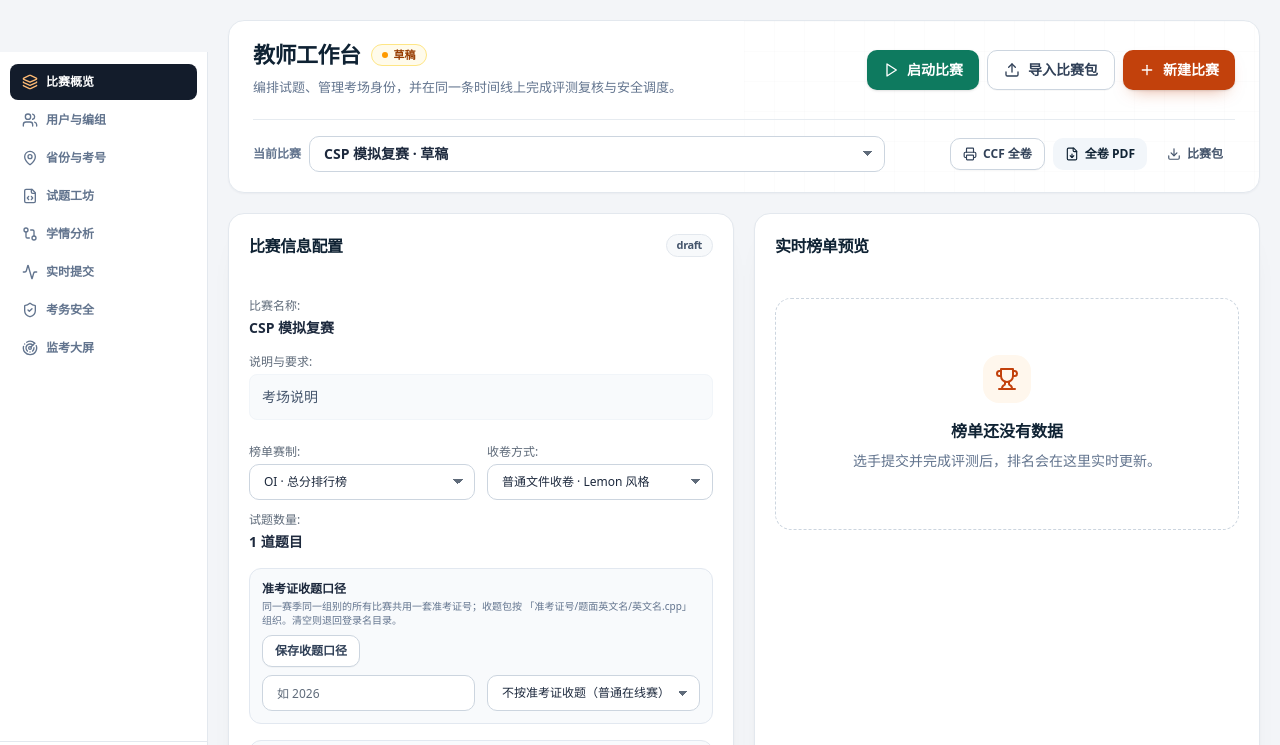
TeacherConsole test data workflow › saves a single inline answer key for answer-only tasks
Click the tab "试题工坊" at (104, 196), box [10, 178, 197, 214]
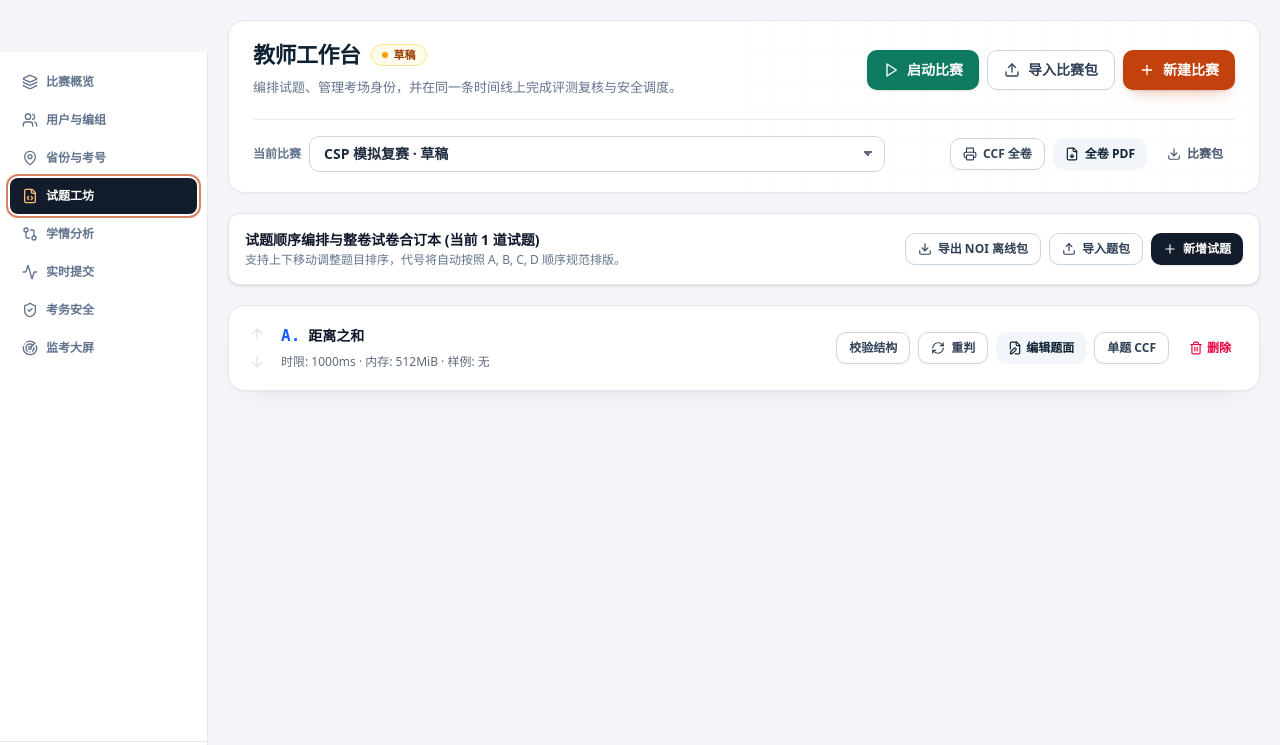
Click the button "编辑题面" at (1041, 348), box [996, 332, 1086, 364]
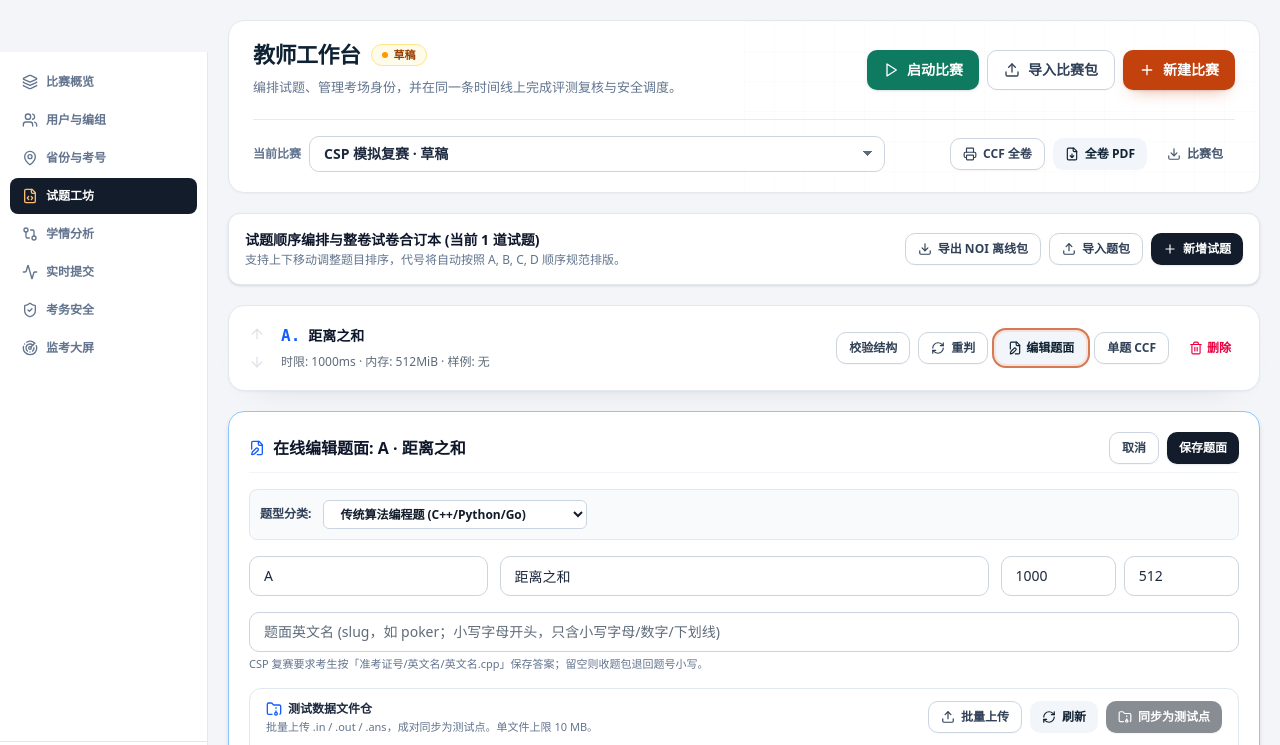
expect the text "测试数据文件仓" is shown: met, box [266, 700, 372, 717]
Select "只交答案题 (文件 / 问答评测)" in the dropdown named "题型分类" at (455, 514), box [323, 500, 587, 528]
(page scrolled)
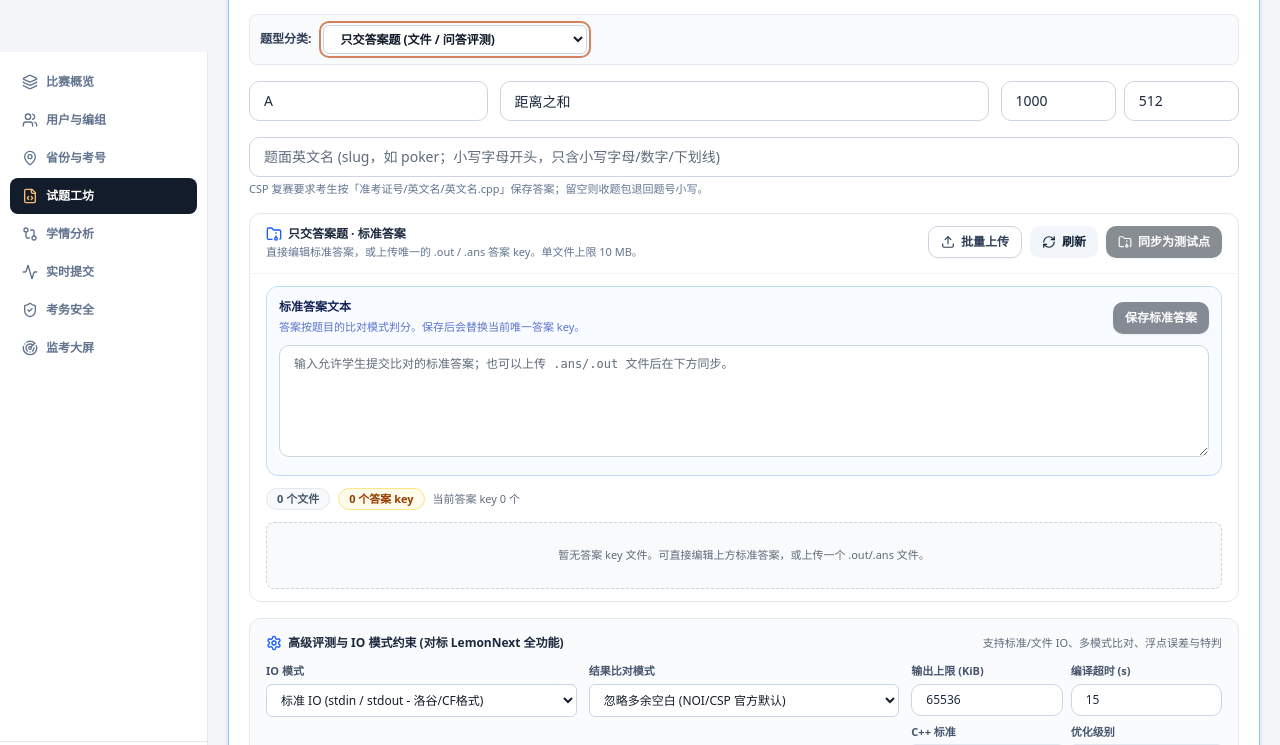
Type "42" into the text box named "只交答案题标准答案" at (744, 400), box [279, 344, 1209, 456]
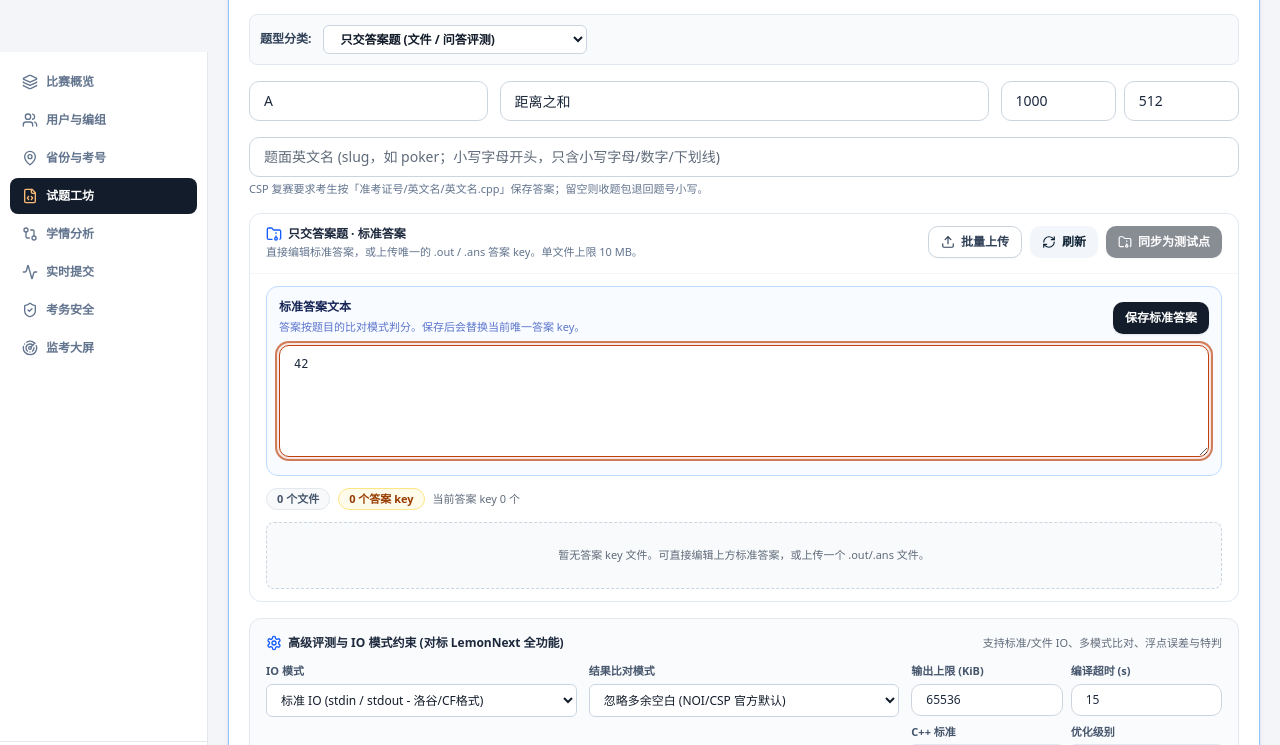
Click the button "保存标准答案" at (1161, 318), box [1113, 302, 1209, 334]
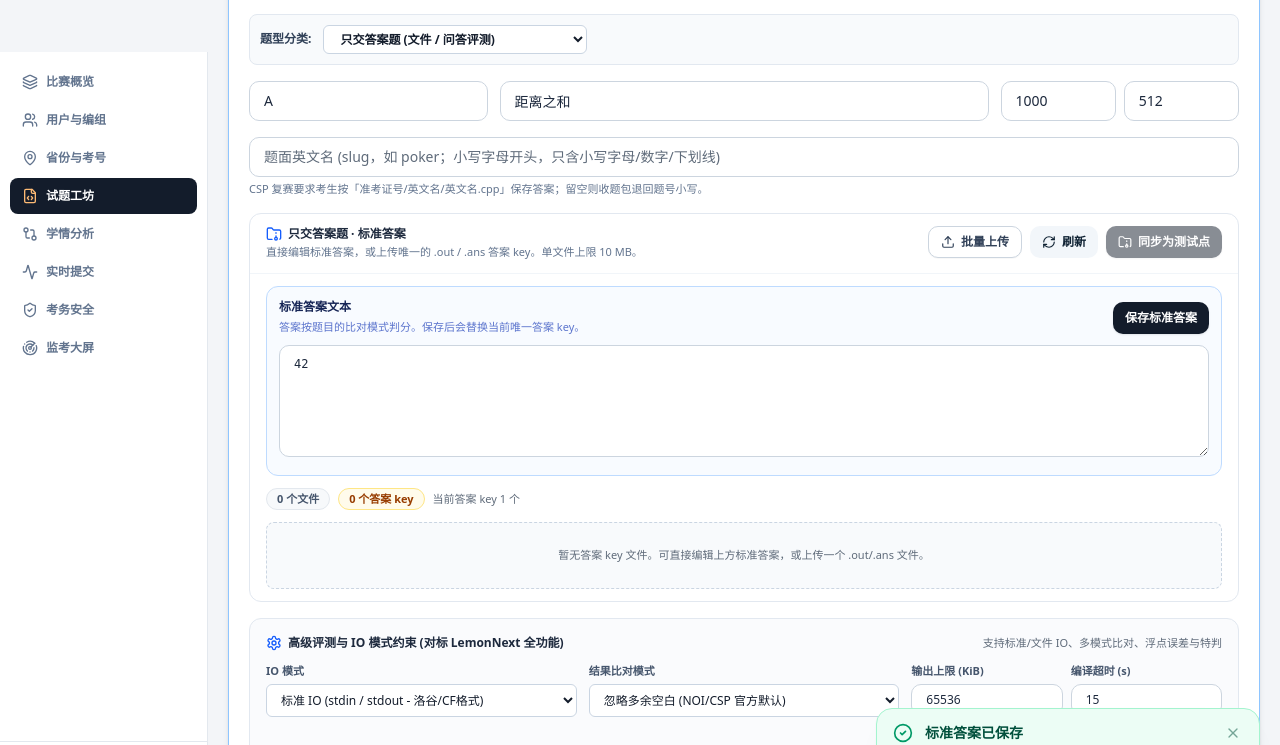
expect the text "标准答案已保存" is shown: met, box [925, 723, 1023, 742]
expect the text "当前答案 key 1 个" is shown: met, box [433, 490, 520, 507]
